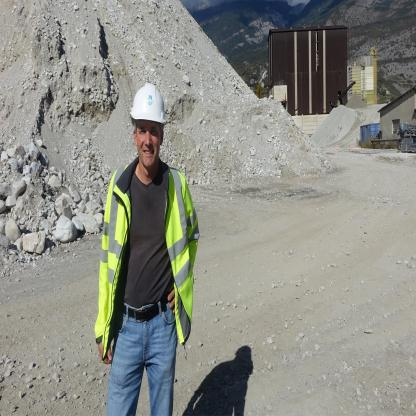person: (92, 71, 202, 416)
